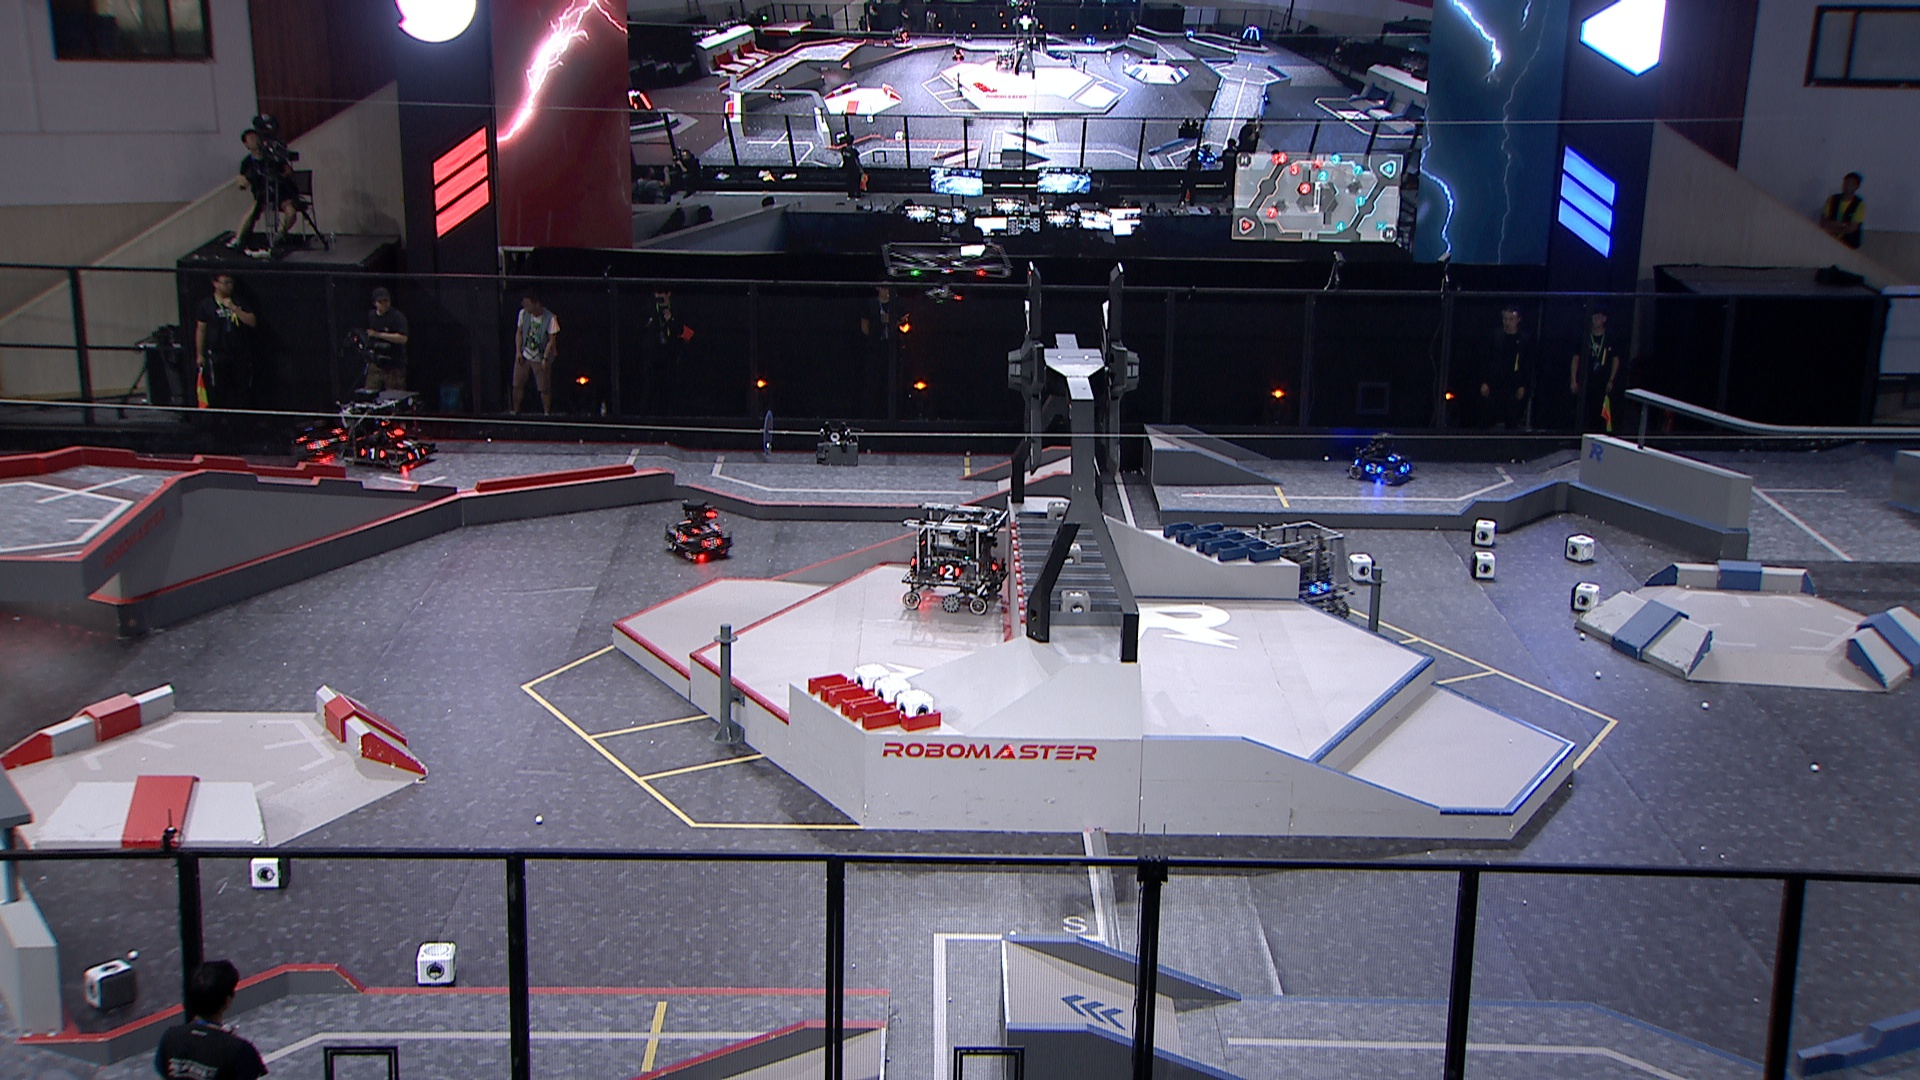armor: (932, 560, 961, 582), (688, 520, 723, 537), (356, 444, 386, 462), (1307, 578, 1329, 597), (405, 444, 429, 463), (700, 534, 724, 553), (305, 436, 328, 451), (394, 436, 419, 450), (1365, 462, 1385, 477), (1394, 458, 1411, 475), (671, 529, 686, 547), (1385, 451, 1403, 465)
car: (899, 500, 1011, 617), (1240, 516, 1353, 622), (335, 385, 440, 473), (665, 498, 742, 564), (1346, 429, 1420, 487), (290, 413, 347, 467)
ignore: (624, 87, 666, 128), (1192, 138, 1220, 164), (992, 46, 1017, 73), (1240, 24, 1263, 49), (767, 79, 789, 104), (889, 24, 913, 45), (949, 41, 967, 65)
